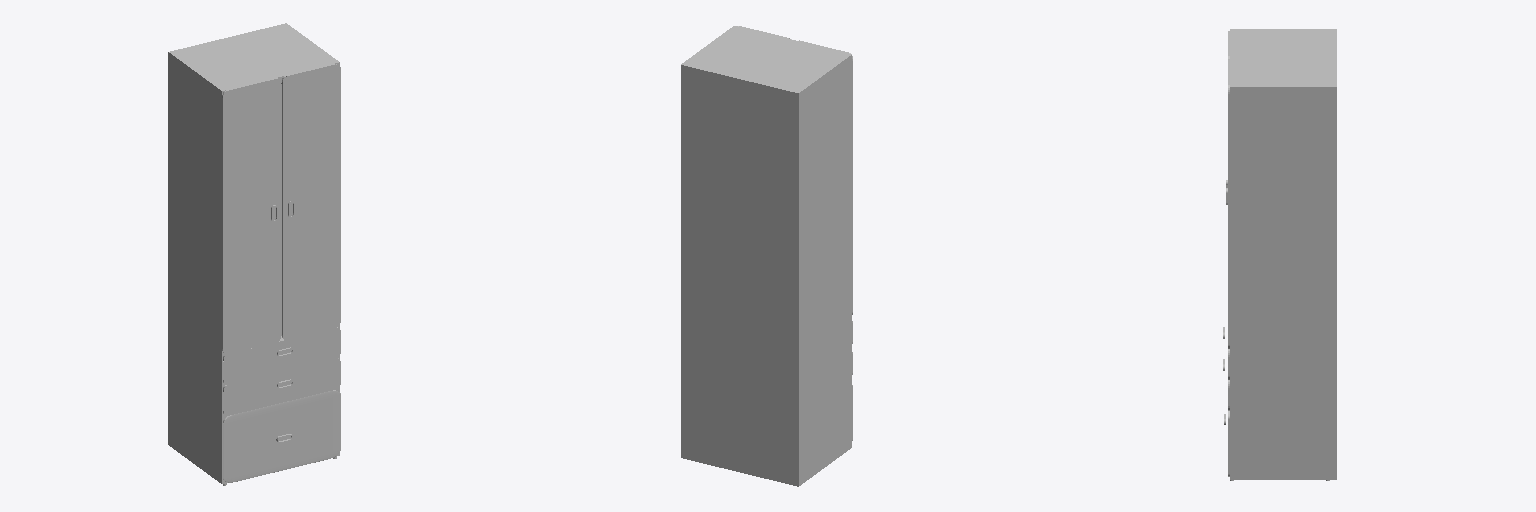
The model's file is StorageFurniture_StuvaFritidsWardrobeBlue.obj.
3 views of the same model, side by side, from view 1: azimuth 30°, elevation 25°; view 2: azimuth 150°, elevation 25°; view 3: azimuth 270°, elevation 25° (orthographic).
Parts seen in each view (by area): view 1: obj_0; view 2: obj_0; view 3: obj_0.
Boxes of the visible parts, <box> form: obj_0: <box>168,23,340,485</box>; obj_0: <box>681,26,852,486</box>; obj_0: <box>1223,29,1336,480</box>.
Size of the model in its own units: 60.1 by 192 by 50.